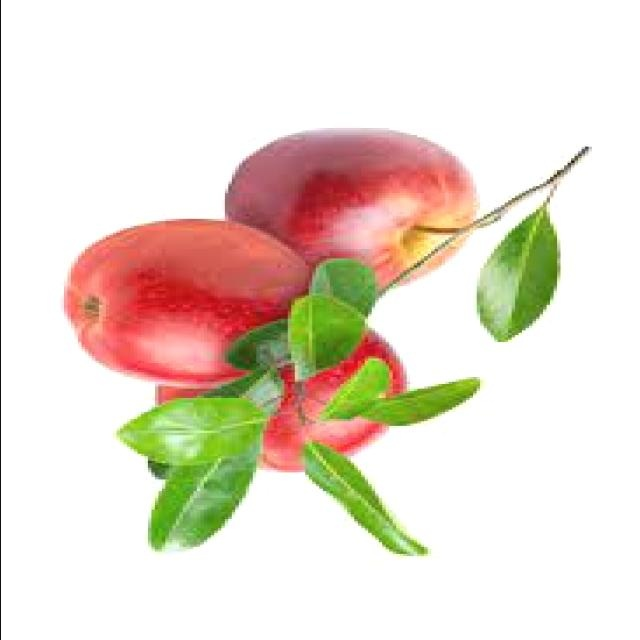agrume: (178, 79, 493, 305), (125, 297, 435, 499), (29, 218, 327, 394)
